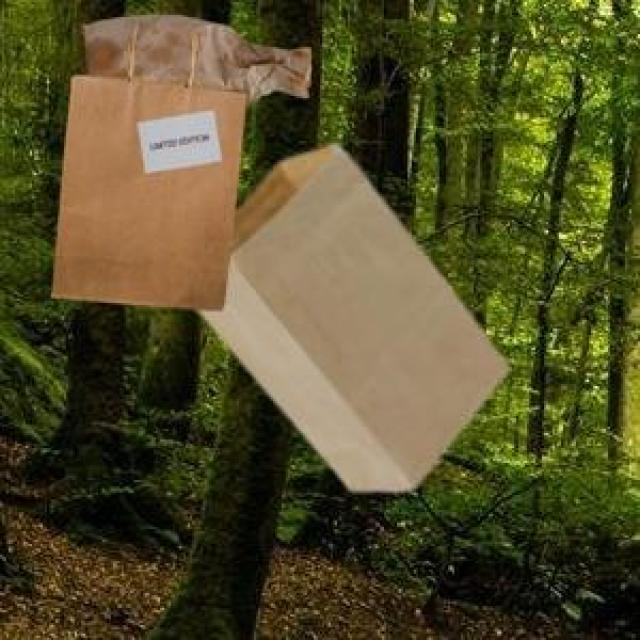paper: (194, 141, 504, 486), (47, 28, 241, 305), (77, 11, 307, 102)
